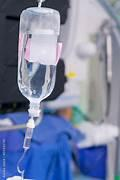Iv_Bottle: (18, 7, 59, 103)
